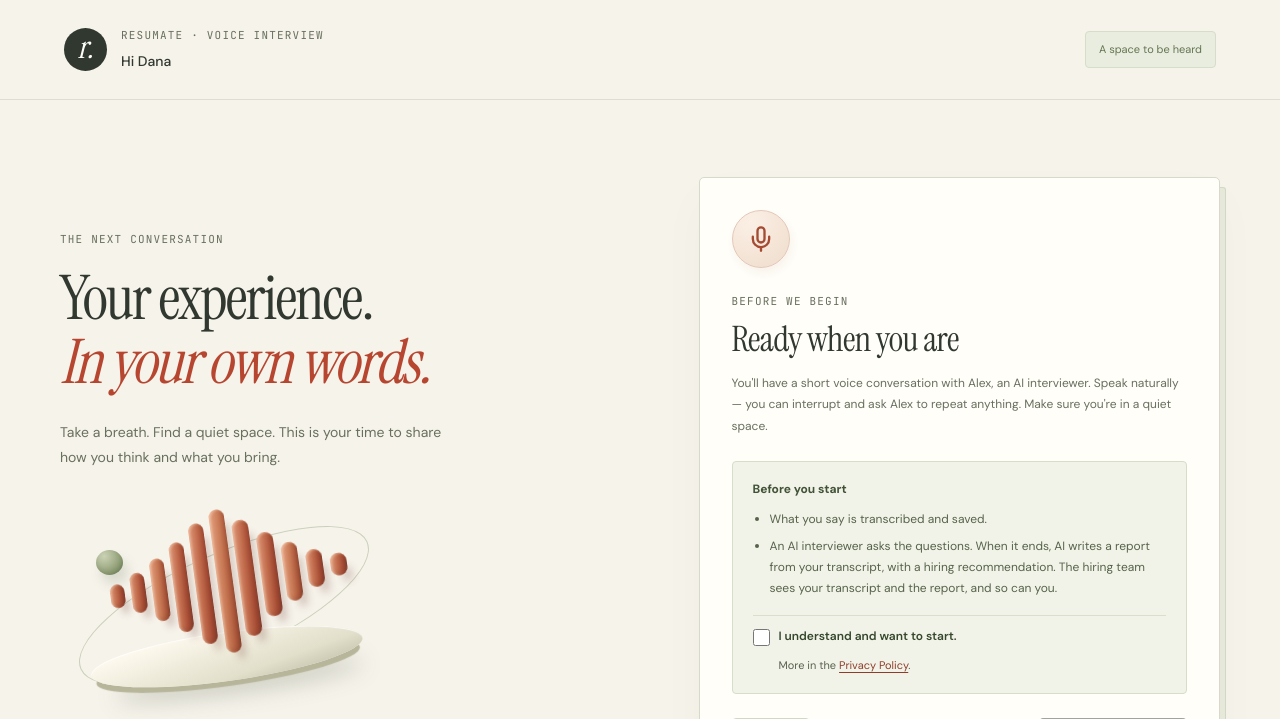
the voice interview room › connects at OpenAI's current address, with the session's key
Click the checkbox labelled "I understand and want to start." at x=761, y=638, box [752,629,770,646]
(page scrolled)
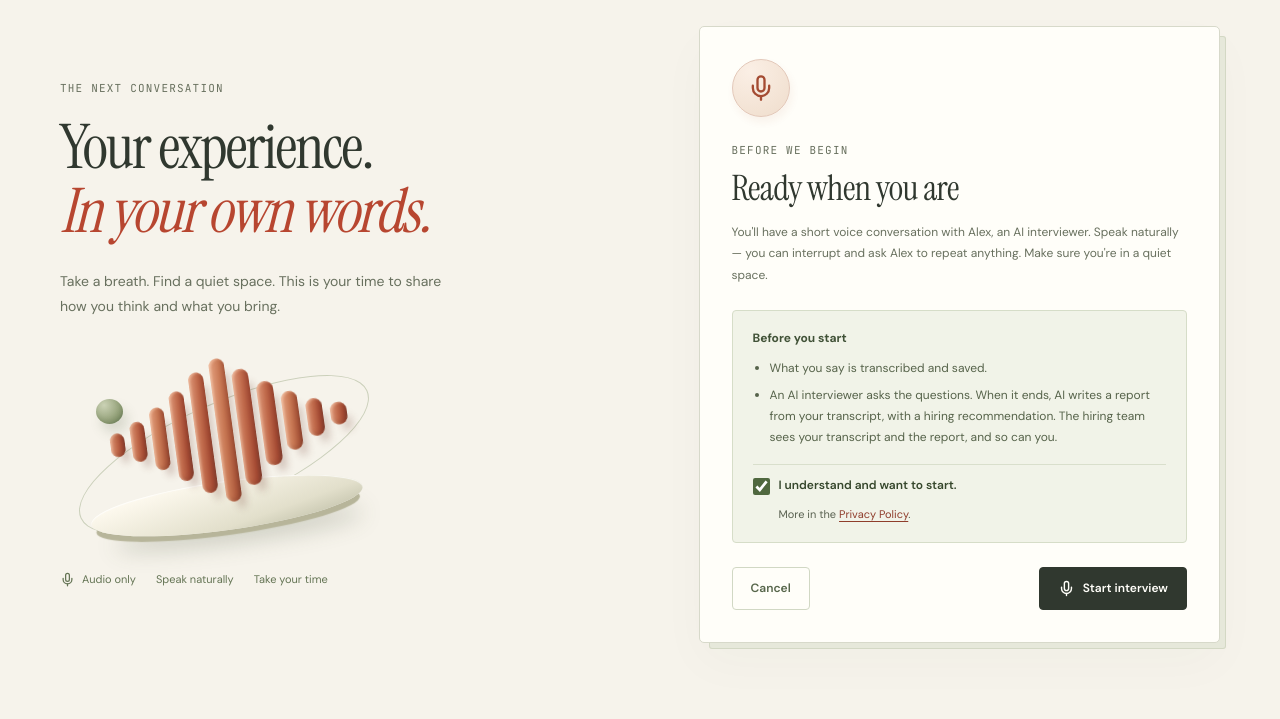
Click the button "Start interview" at x=1113, y=589, box [1039,567,1187,610]
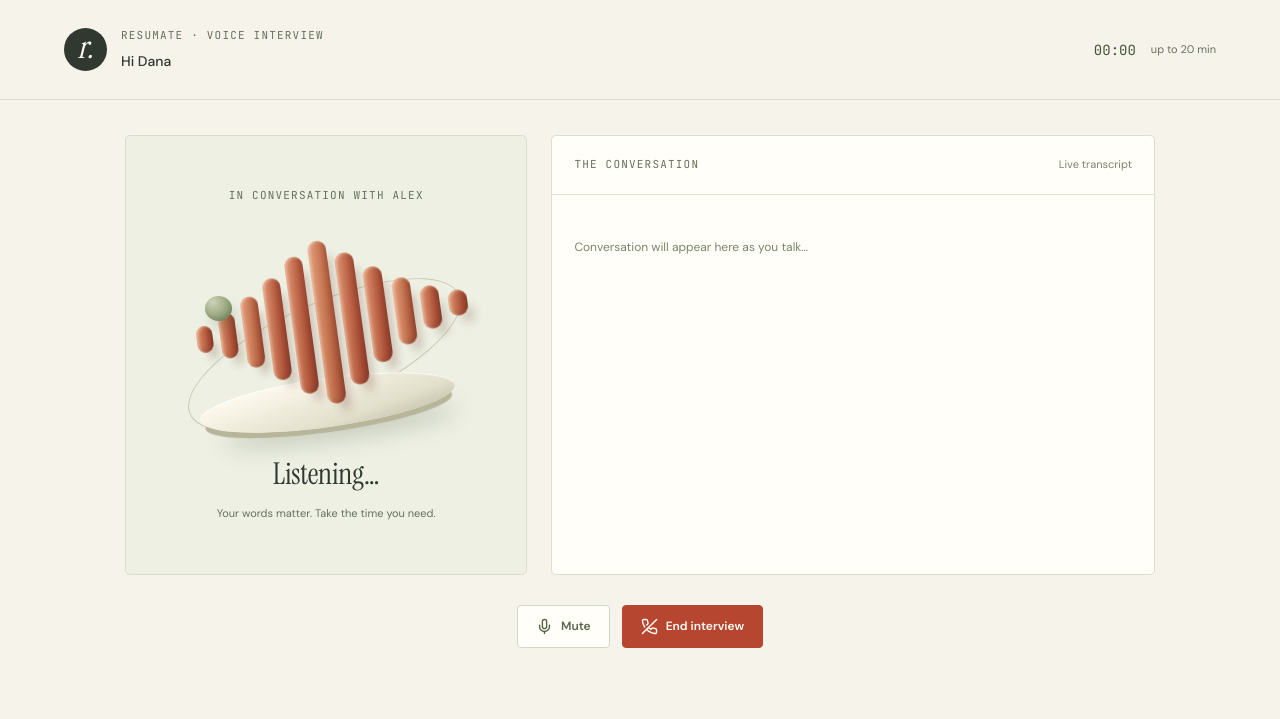
Result: the heading "Listening…" is shown at [273,454,380,493]
